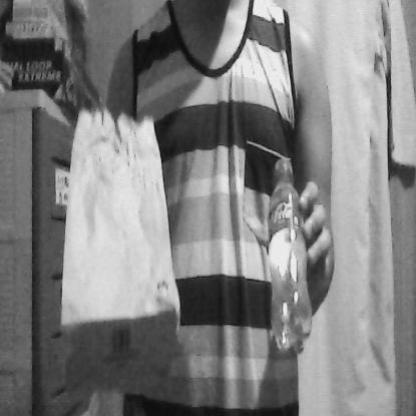Plastic Bottle: (259, 148, 319, 357)
